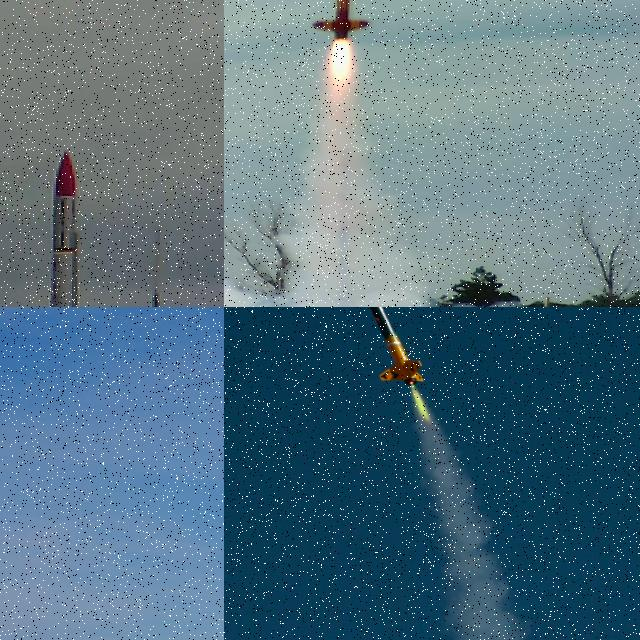Rocket: (310, 307, 426, 385), (30, 149, 82, 307), (310, 0, 369, 39)
